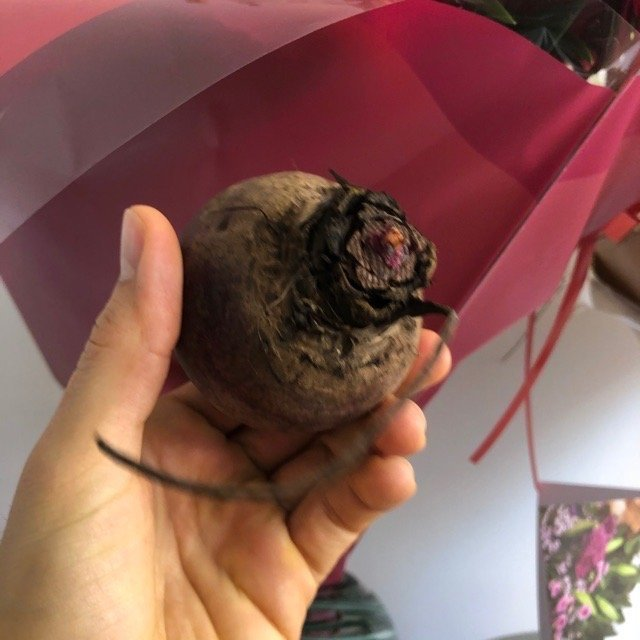beet: (94, 171, 460, 498)
